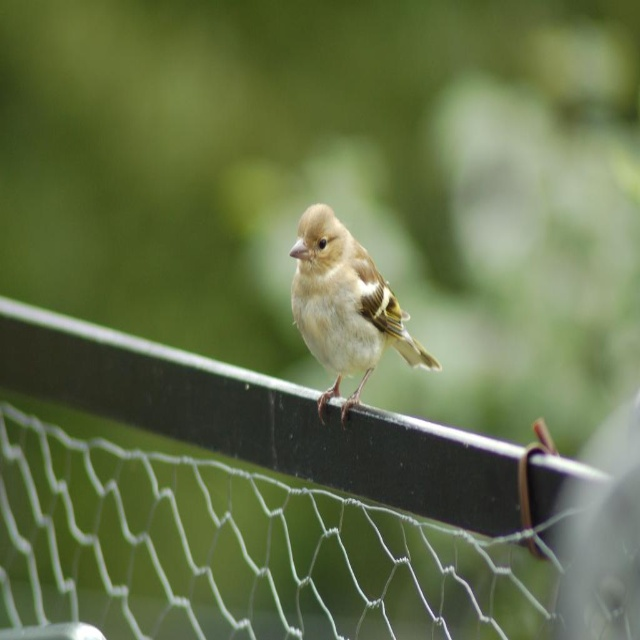Sparrow: (289, 205, 439, 429)
